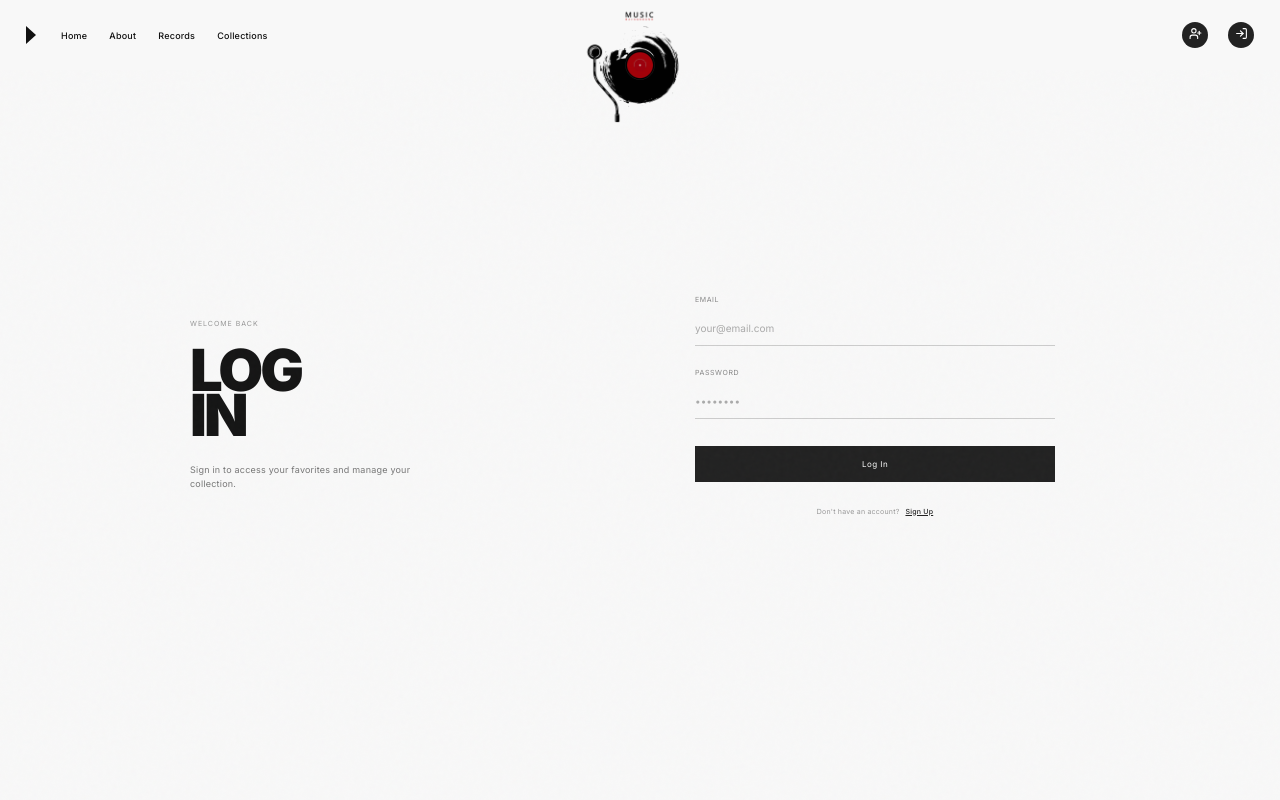
Navigation test › should navigate to the signup page correctly
Click the link named "signup". click: (1195, 35)
box: [1182,22,1208,48]
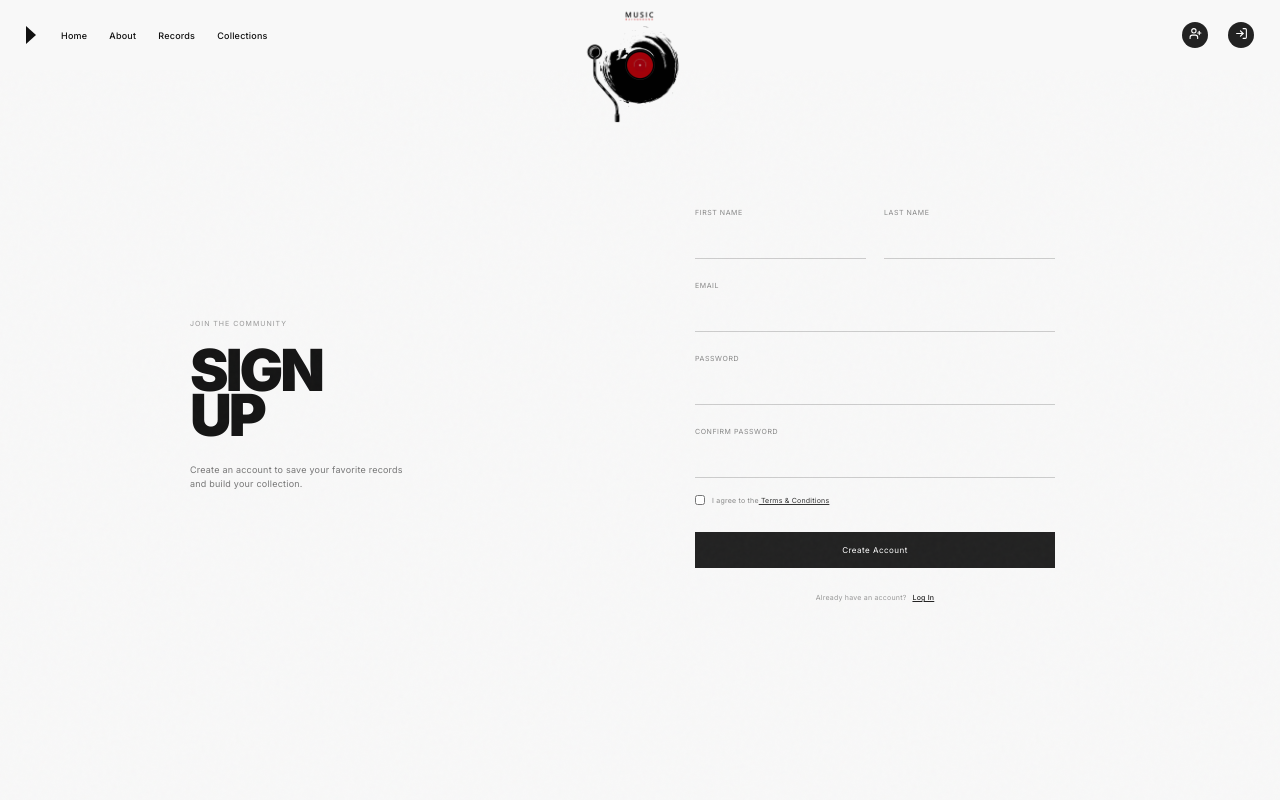
Result: the heading "SIGNUP" is shown at [190,335,322,450]
